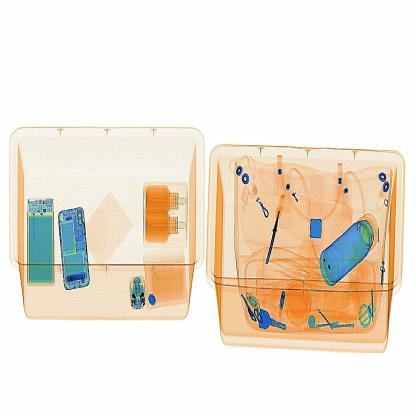gun: (264, 191, 285, 269)
